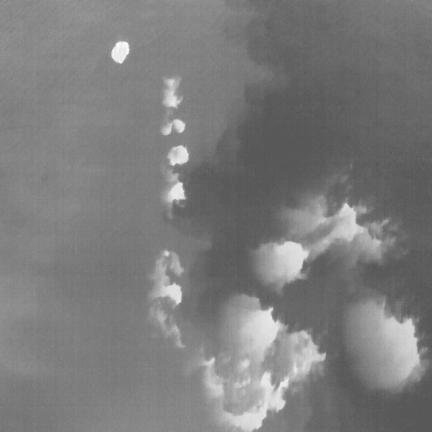flukeprints: (344, 300, 422, 391), (222, 372, 288, 431), (250, 241, 308, 291), (313, 203, 367, 255), (240, 308, 282, 352), (293, 338, 325, 375), (163, 77, 182, 108), (157, 284, 182, 305), (167, 145, 188, 165), (111, 40, 129, 63), (168, 181, 185, 202), (172, 119, 185, 132)
